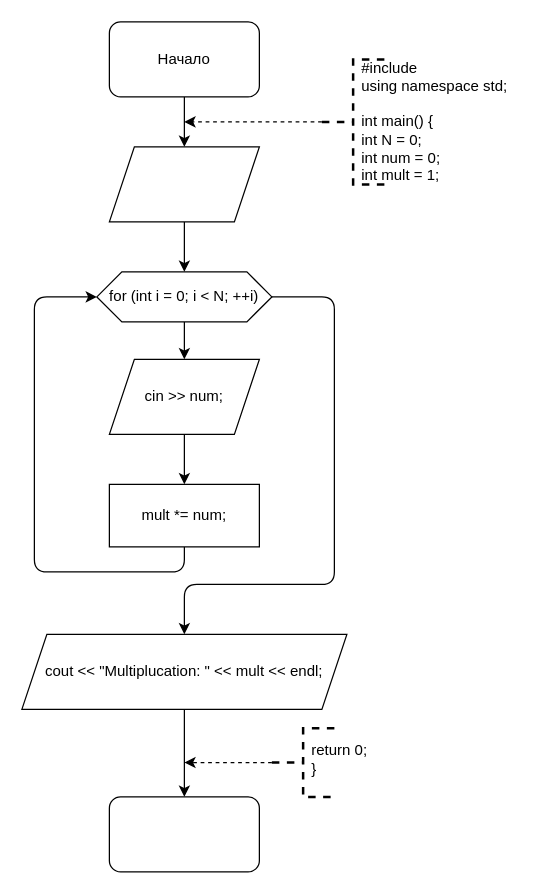
Image size: 544x894. Some labels were removed from this diagram. Each missing label, with the box of its shape:
cin >> N;: (108, 146, 259, 222)
Конец: (108, 796, 259, 872)
